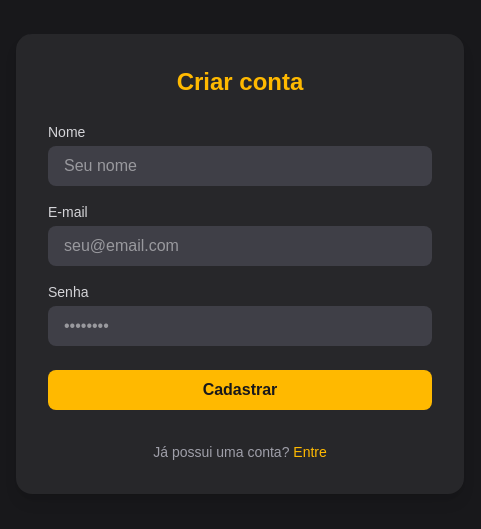
Scenario: RF1 - Cadastro de Usuário (Frontend) › deve exibir mensagem de erro para campos inválidos (400)
Click the button "Cadastrar" at (240, 390), box 48,370 -> 432,410
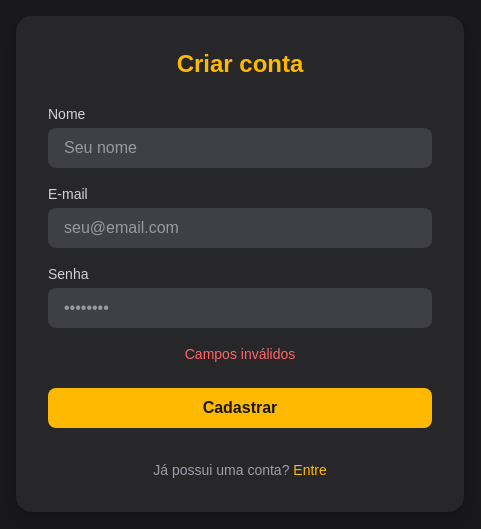
Expected: the text "Campos inválidos" is shown, 185,346 -> 295,362
